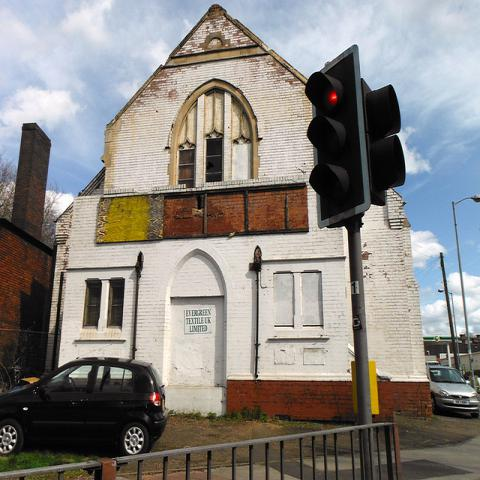car: (0, 355, 171, 456), (426, 366, 479, 419)
